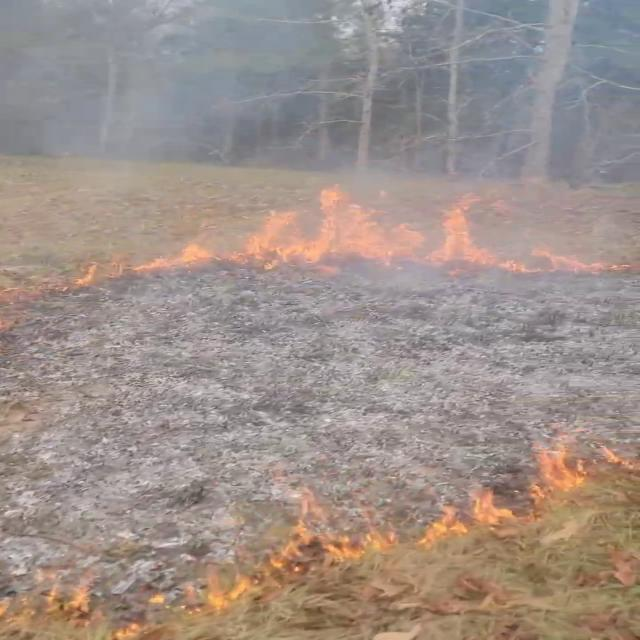Fire: (146, 173, 397, 276), (420, 428, 603, 544), (238, 175, 387, 270), (427, 191, 493, 271)
Smoke: (0, 0, 640, 219)
